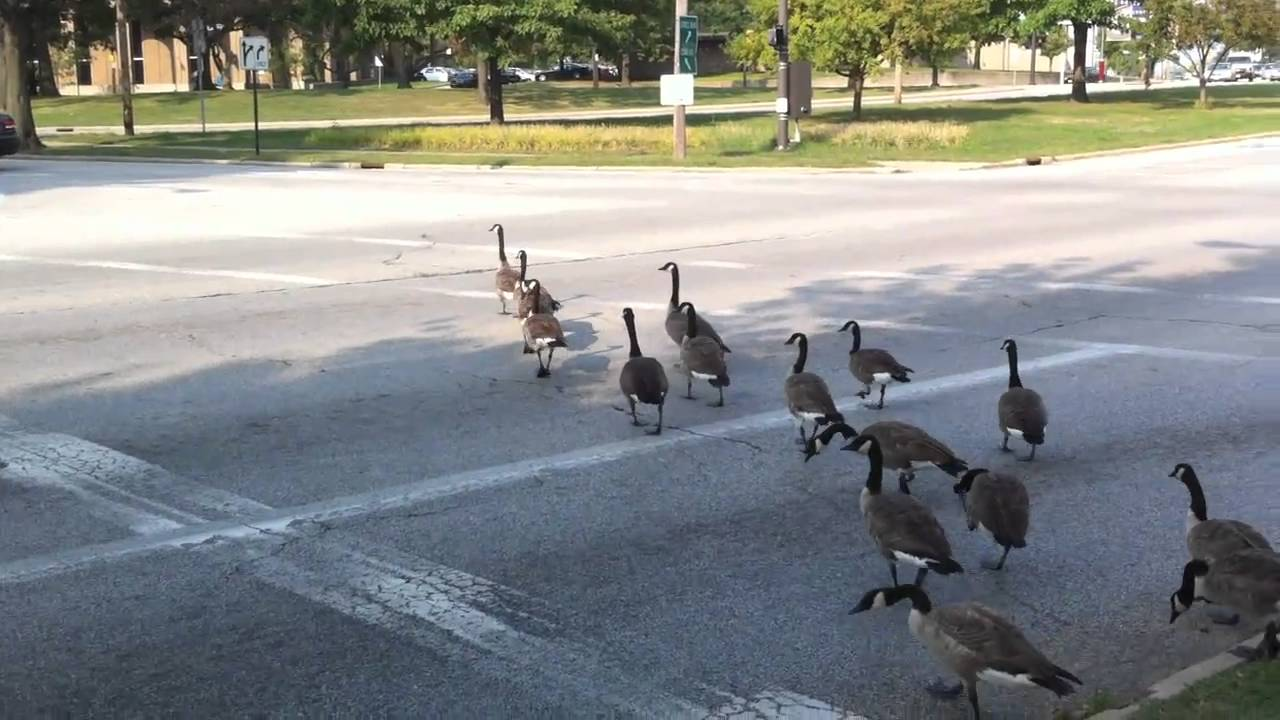goose: (845, 580, 1083, 720), (834, 435, 949, 594), (1158, 544, 1280, 642), (803, 413, 957, 485), (1159, 460, 1268, 557), (945, 460, 1035, 563), (649, 255, 727, 361), (990, 335, 1053, 457), (834, 315, 908, 417), (614, 305, 671, 436), (777, 328, 839, 438), (674, 301, 731, 414), (524, 278, 563, 383), (484, 221, 521, 318), (511, 245, 556, 315)
